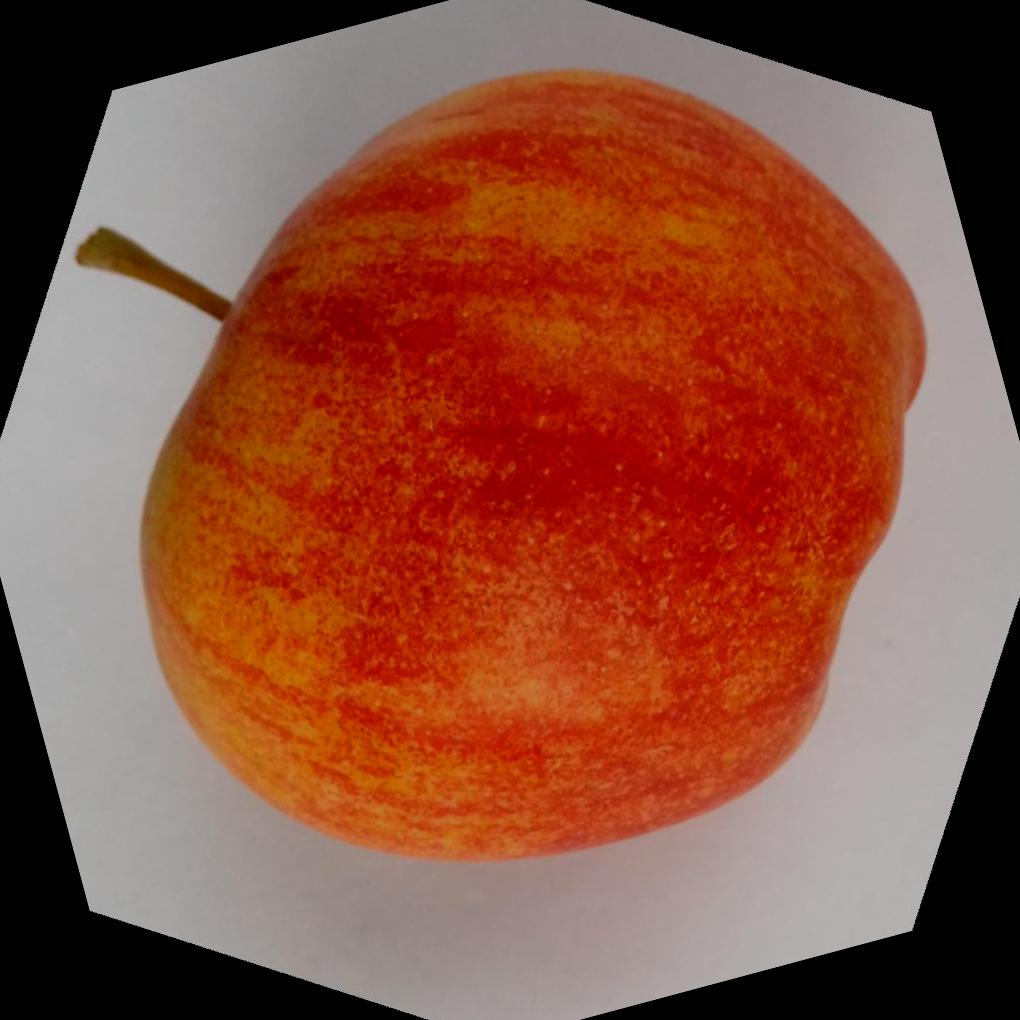FreshGuava: (139, 63, 932, 864)
